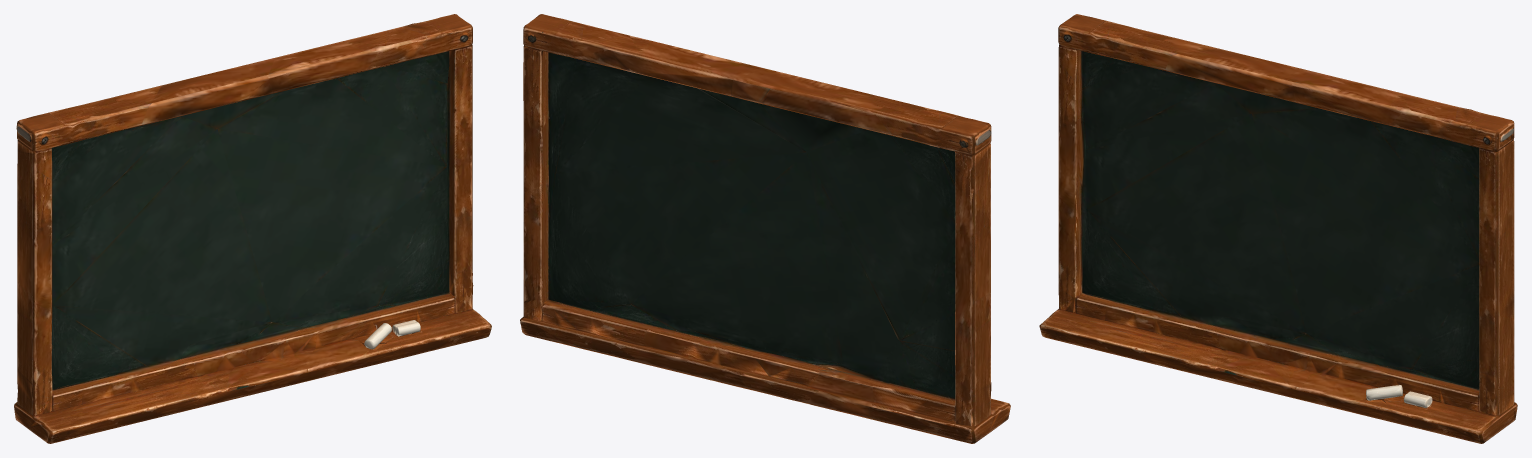
File: d_chalkboard.glb
3 views of the same model, side by side, from view 1: azimuth 30°, elevation 25°; view 2: azimuth 150°, elevation 25°; view 3: azimuth 330°, elevation 25° (orthographic). The views are drawn at different scales.
Size of the model in its own units: 1.9 by 1.24 by 0.2852.
1 material, 1 textured.
